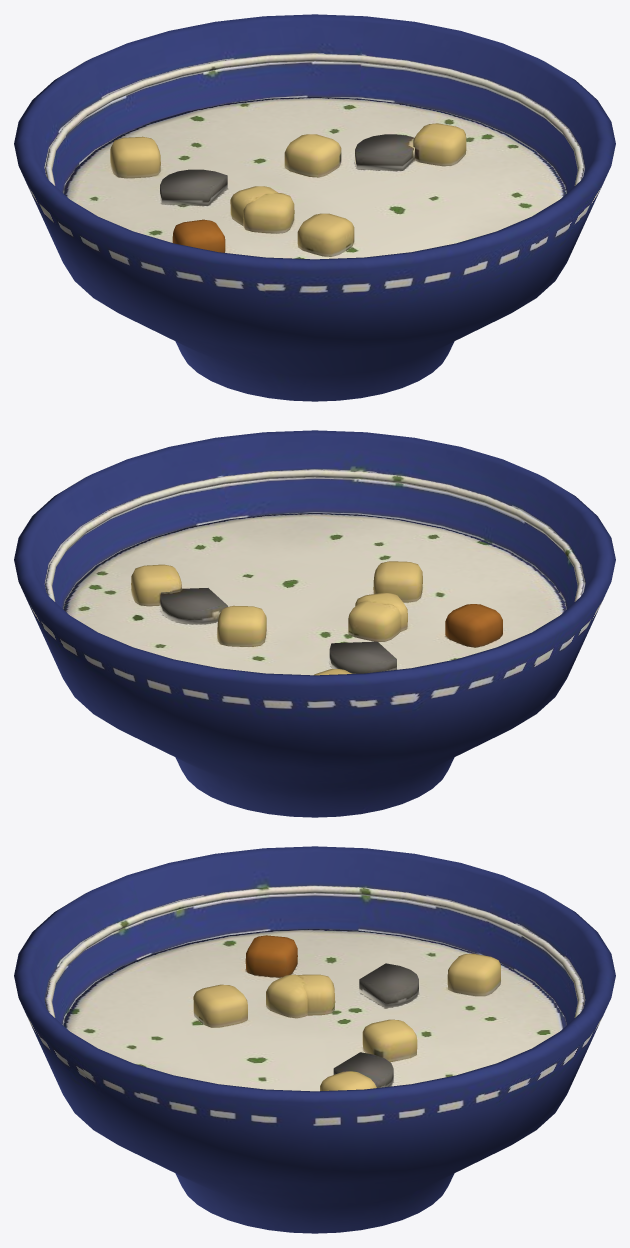
The model's file is clam_chowder_b1.glb.
3 renders of one model, top to bottom at view 1: azimuth 30°, elevation 25°; view 2: azimuth 150°, elevation 25°; view 3: azimuth 270°, elevation 25°, orthographic.
Parts seen in each view (by area): view 1: prop_clam_chowder_b1_felt; view 2: prop_clam_chowder_b1_felt; view 3: prop_clam_chowder_b1_felt.
Part boxes in pixels (x1,y1,x2,y2): prop_clam_chowder_b1_felt: [14, 14, 615, 401]; prop_clam_chowder_b1_felt: [14, 430, 615, 817]; prop_clam_chowder_b1_felt: [14, 846, 615, 1233].
Size of the model in its own units: 0.204 by 0.0773 by 0.204.
1 material, 1 textured.
